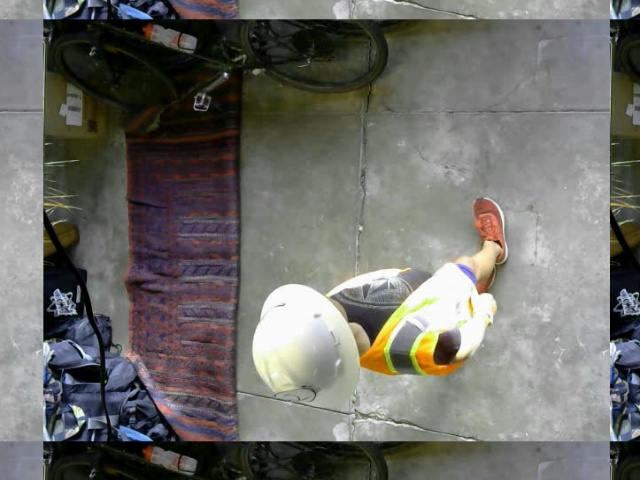two: (273, 386, 315, 402)
